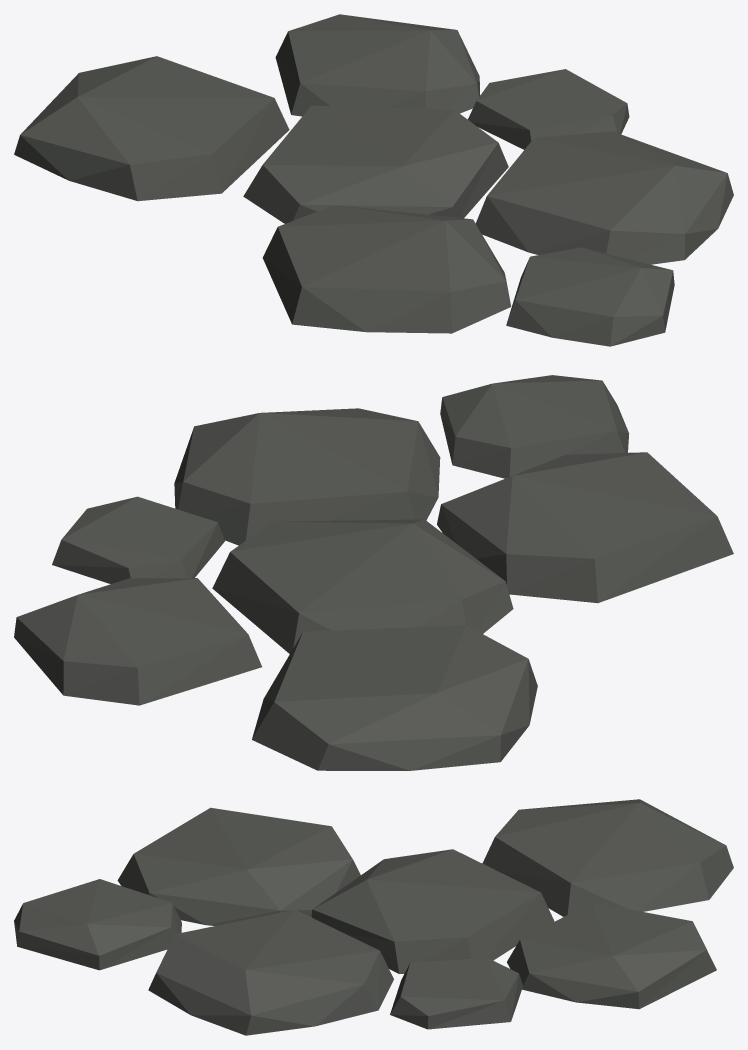
The model's file is cobblestone.fbx.
3 views of the same model, one above another, from view 1: azimuth 30°, elevation 25°; view 2: azimuth 150°, elevation 25°; view 3: azimuth 270°, elevation 25° (orthographic). The views are drawn at different scales.
Visible parts, largest first — view 1: cobblestone_LOD0.001; view 2: cobblestone_LOD0.001; view 3: cobblestone_LOD0.001.
Part boxes in pixels (<box>): cobblestone_LOD0.001: <box>14,14,733,346</box>; cobblestone_LOD0.001: <box>14,375,733,770</box>; cobblestone_LOD0.001: <box>14,799,733,1035</box>.
Size of what is drawn, in the model's own units: 1.16 by 0.1007 by 1.61.
